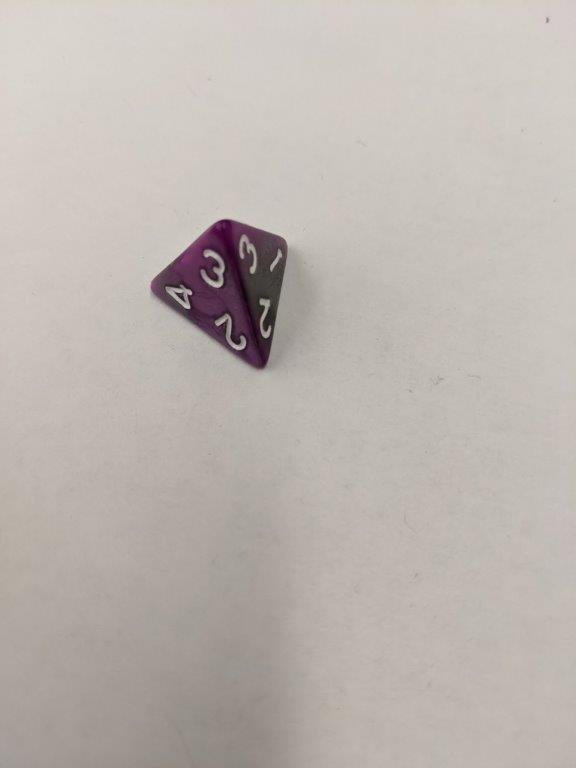d4-3: (147, 218, 291, 374)
